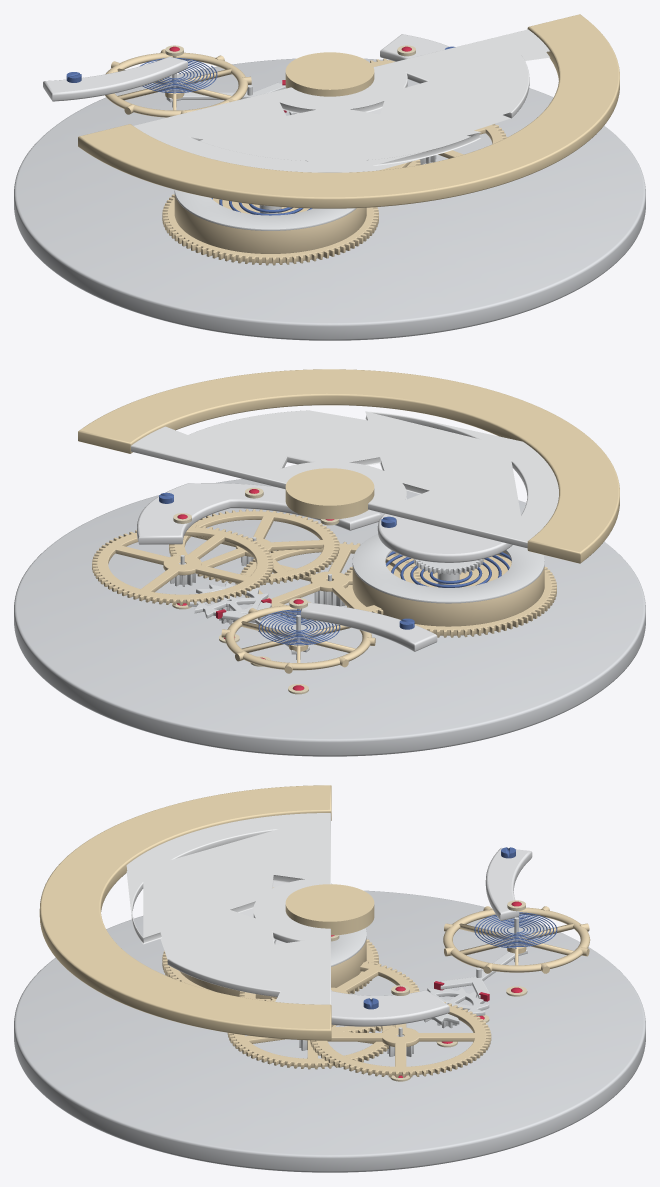
The model's file is kala-movement.glb.
3 renders of one model, top to bottom at view 1: azimuth 30°, elevation 25°; view 2: azimuth 150°, elevation 25°; view 3: azimuth 270°, elevation 25°, orthographic.
Parts seen in each view (by area): view 1: plate, rotor, wheel_barrel, bridges, balance_wheel, hairspring, wheel_third, pallet_fork; view 2: plate, rotor, wheel_barrel, bridges, wheel_fourth, wheel_third, balance_wheel, wheel_center, hairspring, wheel_escape, pallet_fork; view 3: plate, rotor, bridges, wheel_fourth, balance_wheel, wheel_barrel, wheel_third, hairspring, wheel_center, wheel_escape, pallet_fork.
Part boxes in pixels (x1,y1,x2,y2): plate: [14, 58, 645, 340]; rotor: [78, 14, 619, 208]; wheel_barrel: [162, 189, 378, 265]; bridges: [43, 34, 449, 114]; balance_wheel: [105, 49, 251, 117]; hairspring: [140, 57, 217, 93]; wheel_third: [379, 124, 507, 170]; pallet_fork: [166, 80, 286, 112]; plate: [14, 479, 645, 756]; rotor: [78, 369, 619, 563]; wheel_barrel: [343, 534, 556, 637]; bridges: [137, 483, 512, 651]; wheel_fourth: [92, 525, 273, 605]; wheel_third: [169, 509, 339, 584]; balance_wheel: [221, 601, 375, 673]; wheel_center: [240, 541, 420, 621]; hairspring: [258, 609, 340, 645]; wheel_escape: [188, 582, 268, 624]; pallet_fork: [216, 598, 309, 654]; plate: [14, 890, 645, 1172]; rotor: [39, 785, 374, 1040]; bridges: [240, 848, 532, 1026]; wheel_fourth: [310, 1002, 491, 1077]; balance_wheel: [443, 906, 590, 973]; wheel_barrel: [162, 928, 378, 1000]; wheel_third: [227, 997, 394, 1069]; hairspring: [474, 912, 557, 948]; wheel_center: [239, 960, 419, 1032]; wheel_escape: [424, 987, 489, 1028]; pallet_fork: [434, 949, 527, 1001].
Size of the model in its own units: 4.6 by 1.1 by 4.6.
